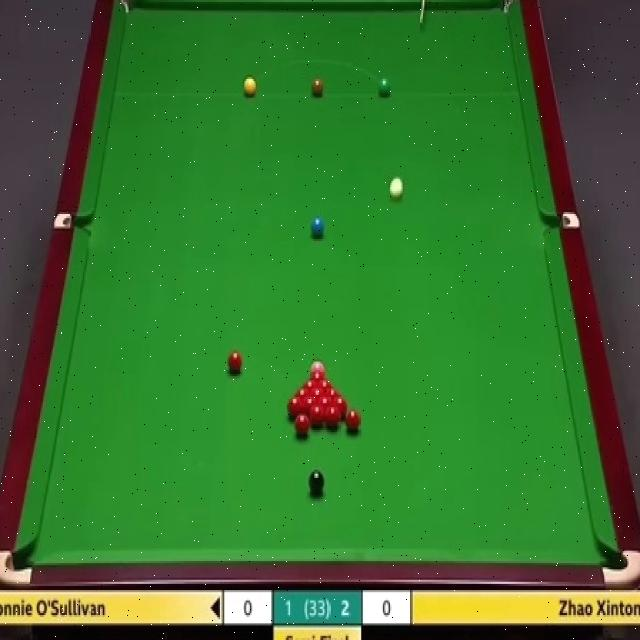black-ball: (308, 468, 324, 496)
blue-ball: (310, 216, 324, 235)
brown-ball: (310, 79, 324, 96)
green-ball: (377, 75, 392, 99)
pink-ball: (310, 360, 327, 378)
red-ball: (343, 408, 362, 434), (325, 404, 341, 432), (288, 394, 304, 420), (294, 412, 310, 434), (316, 397, 334, 416), (229, 350, 242, 376), (310, 404, 325, 426), (332, 396, 348, 416), (324, 386, 341, 401), (310, 386, 325, 402), (304, 398, 316, 417), (295, 386, 311, 400), (317, 376, 331, 392), (303, 378, 318, 391)
white-ball: (389, 177, 404, 200)
yellow-ball: (243, 76, 257, 97)
